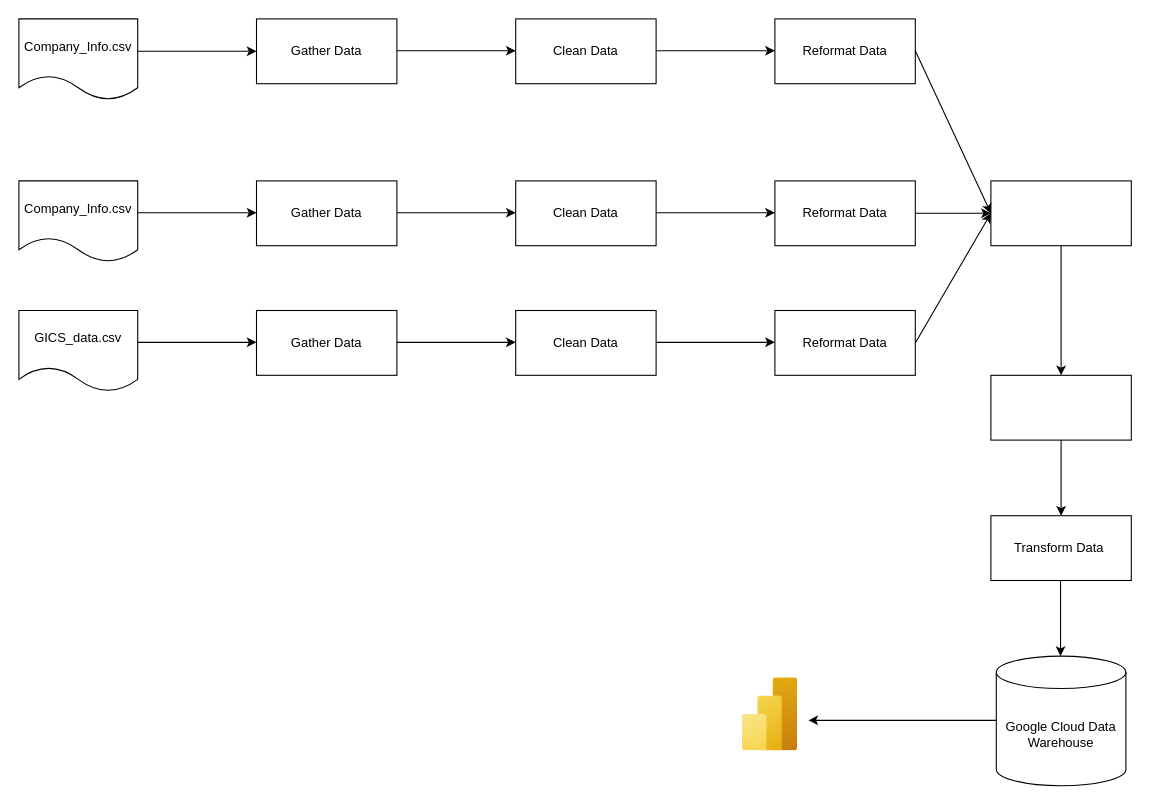
The diagram is 1150 pixels wide and 805 high, and some of its shapes have lost their labels. The centre of each missing label's shape, as x and y in pixels:
"Consolidate Data" goes at point 1060,213.
"Load Data" goes at point 1060,407.
"Visualization and Reporting" goes at point 769,714.
